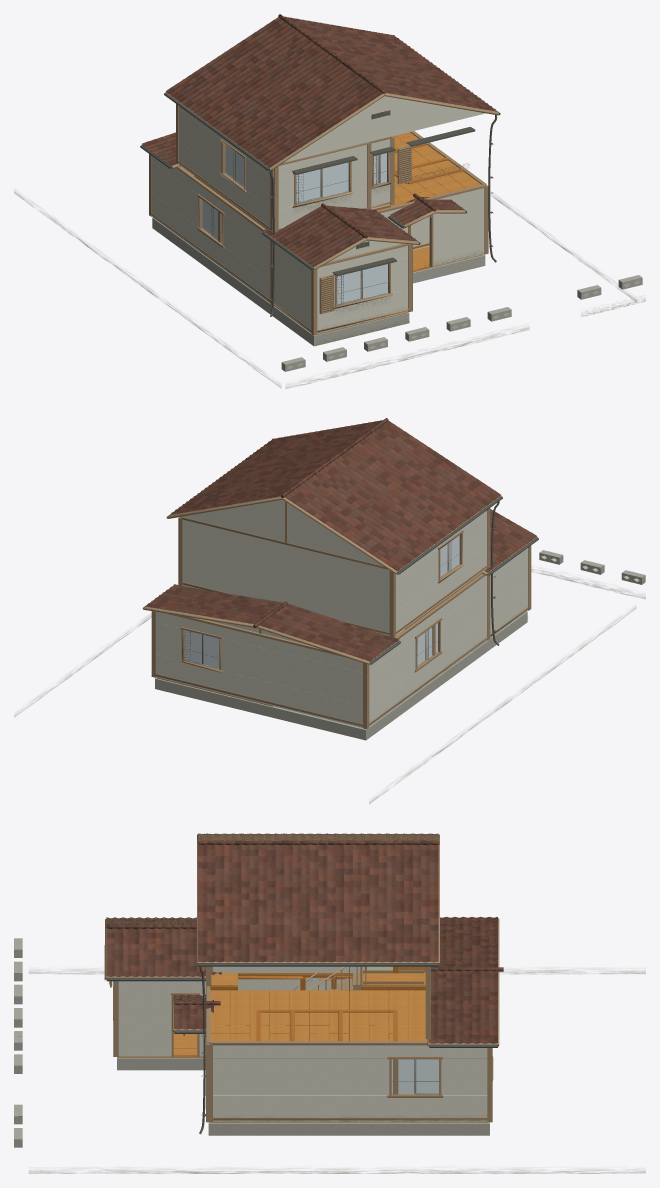
File: nobi-home-v27.glb
3 views of the same model, one above another, from view 1: azimuth 30°, elevation 25°; view 2: azimuth 150°, elevation 25°; view 3: azimuth 270°, elevation 25° (orthographic). The views are drawn at different scales.
Parts seen in each view (by area): view 1: home_roof, home_ground, home_front_ground, home_eaves, home_front_upper, facade_ground, home_upper, home_ceiling, facade_upper; view 2: home_roof, home_ground, home_upper, home_eaves, home_front_ground, facade_ground; view 3: home_roof, home_ground, home_eaves, home_ceiling, home_front_ground, facade_ground, home_upper, home_stairs.
Part boxes in pixels (x1,y1,x2,y2): home_roof: [164, 14, 500, 171]; home_ground: [149, 131, 486, 346]; home_front_ground: [274, 184, 488, 335]; home_eaves: [140, 132, 466, 270]; home_front_upper: [274, 136, 394, 232]; facade_ground: [14, 115, 645, 388]; home_upper: [176, 104, 390, 233]; home_ceiling: [181, 132, 481, 206]; facade_upper: [269, 127, 493, 249]; home_roof: [166, 418, 502, 574]; home_ground: [151, 573, 527, 740]; home_upper: [178, 508, 490, 637]; home_eaves: [142, 509, 538, 665]; home_front_ground: [490, 545, 531, 637]; facade_ground: [14, 501, 645, 804]; home_roof: [197, 833, 439, 966]; home_ground: [117, 976, 493, 1135]; home_eaves: [105, 916, 503, 1047]; home_ceiling: [211, 977, 427, 1041]; home_front_ground: [113, 981, 211, 1122]; facade_ground: [14, 938, 645, 1173]; home_upper: [210, 966, 430, 1039]; home_stairs: [293, 966, 423, 990].
Bounding box in the file's own units: 14 × 7.57 × 18.43.
65 materials, 40 textured.
